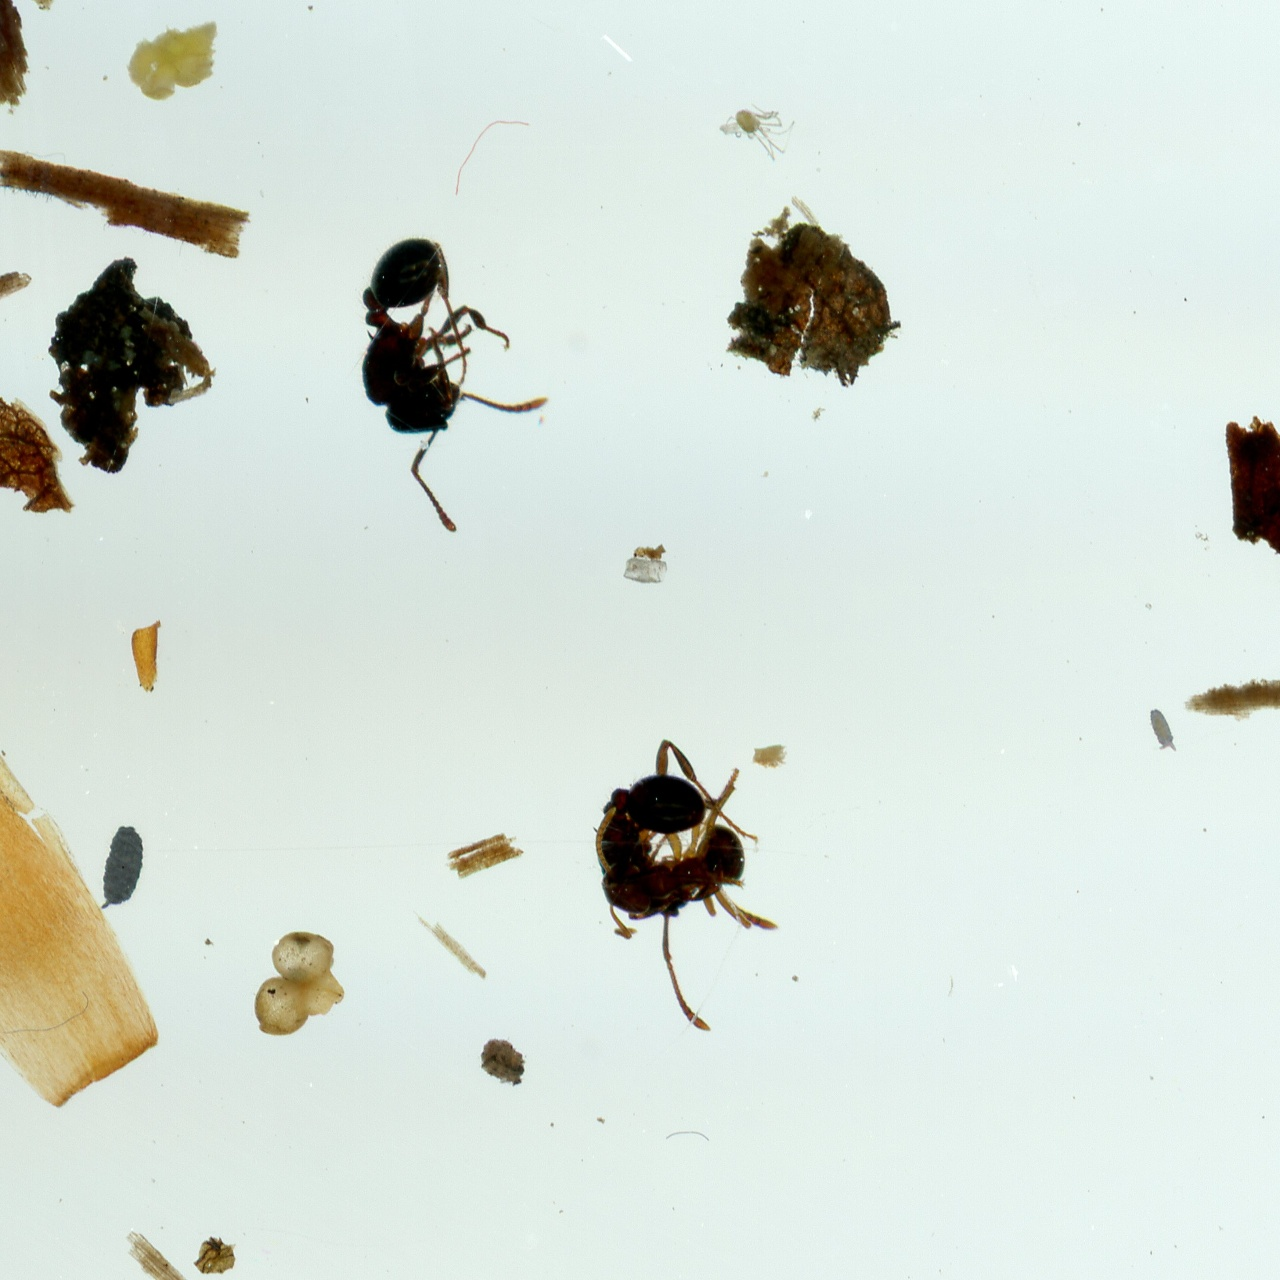arthropod: (349, 233, 557, 539), (588, 735, 784, 1036), (710, 94, 799, 166), (95, 817, 155, 921), (1145, 700, 1183, 757)
